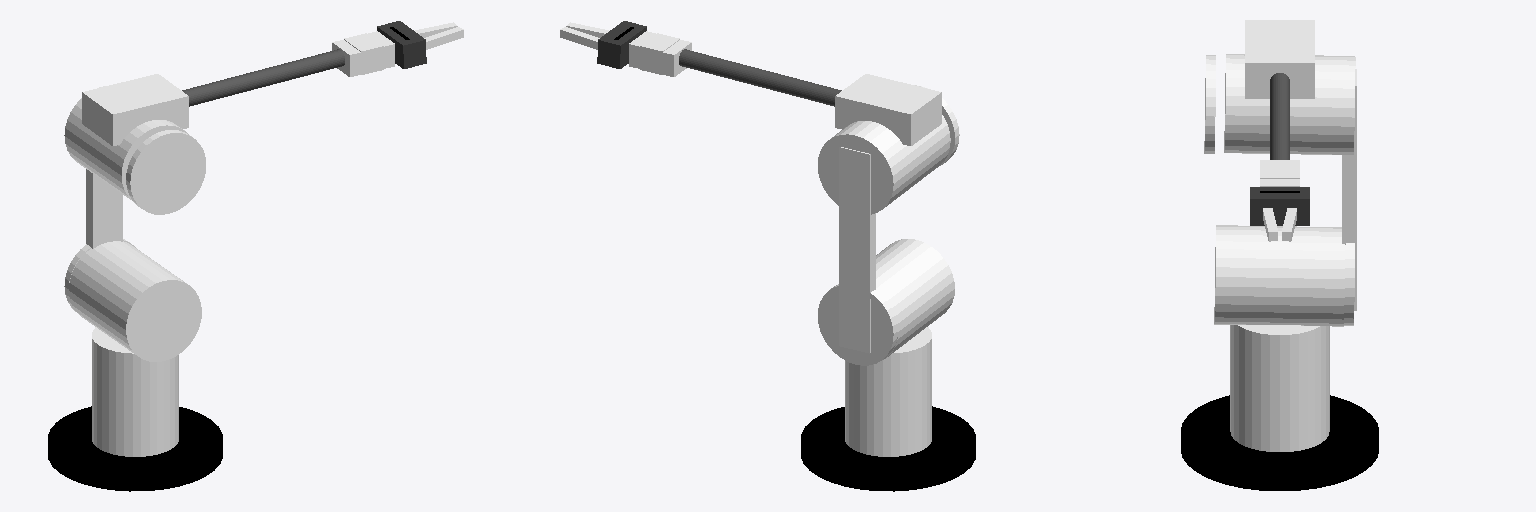
URDF robot description (CPRMover6):
<?xml version="1.0"?>
<robot name="CPRMover6">
  
  <link name="base_link">
    <visual>
      <geometry>
        <cylinder length="0.02" radius="0.1"/>
      </geometry>
	<origin rpy="0 0 0" xyz="0 0 0.01"/>
      <material name="black">
        <color rgba="0 0 0 0.9"/>
      </material>
    </visual>
  </link>
  <link name="A1fixed">
    <visual>
      <geometry>
        <cylinder length="0.13" radius="0.05"/>
      </geometry>
	<origin rpy="0 0 0" xyz="0 0 0.065"/>
      <material name="white">
        <color rgba="1 1 1 0.9"/>
      </material>
    </visual>
  </link>
 <joint name="basetoA1fixed" type="fixed">
    <parent link="base_link"/>
    <child link="A1fixed"/>
    <origin xyz="0 0 .02"/>
  </joint>


 <link name="Body1">
    <visual>
      <geometry>
	<cylinder length="0.13" radius="0.05"/>
      </geometry>
      <origin rpy="1.552 0 0" xyz="0 0 0"/>
      <material name="white">
        <color rgba="1 1 1 0.9"/>
      </material>
    </visual>
  </link>

<link name="Body2">
    <visual>
      <geometry>
	<cylinder length="0.01" radius="0.05"/>
      </geometry>
      <origin rpy="1.552 0 0" xyz="0 0.07 0"/>
      <material name="white">
        <color rgba="1 1 1 0.9"/>
      </material>
    </visual>
  </link>
<link name="UpperArm">
    <visual>
      <geometry>
	<box size="0.04 0.015 .25"/>
      </geometry>
      <origin rpy="0 0 0" xyz="0.0 0.07 0.095"/>
      <material name="white">
        <color rgba="1 1 1 0.9"/>
      </material>
    </visual>
  </link>
<link name="Body2Oben">
    <visual>
      <geometry>
	<cylinder length="0.13" radius="0.05"/>
      </geometry>
      <origin rpy="1.552 0 0" xyz="0 0.01 0.19"/>
      <material name="white">
        <color rgba="1 1 1 0.9"/>
      </material>
    </visual>
  </link>

  <joint name="A2basetoA2fixed" type="fixed">
    <parent link="Body2"/>
    <child link="UpperArm"/>
    <origin xyz="0 0 0"/>
  </joint>
  <joint name="A2ArmtoA2Oben" type="fixed">
    <parent link="Body2"/>
    <child link="Body2Oben"/>
    <origin xyz="0 0 0"/>
  </joint>




<link name="Body3">
    <visual>
      <geometry>
	<cylinder length="0.01" radius="0.05"/>
      </geometry>
      <origin rpy="1.552 0 0" xyz="0 -0.07 0"/>
      <material name="white">
        <color rgba="1 1 1 0.9"/>
      </material>
    </visual>
  </link>

 
<link name="Body4">
    <visual>
      <geometry>
	<cylinder length="0.3" radius="0.01"/>
      </geometry>
      <origin rpy="0 1.552 0" xyz="0.12 0 0"/>
      <material name="grey">
        <color rgba="0.4 0.4 0.4 0.9"/>
      </material>
    </visual>
  </link>
<link name="Body4Back">
    <visual>
      <geometry>
	<box size="0.1 0.07 0.04"/>
      </geometry>
      <origin rpy="0 0 0" xyz="0 0 0"/>
      <material name="white">
        <color rgba="1 1 1 0.9"/>
      </material>
    </visual>
  </link>
<link name="Body4Front">
    <visual>
      <geometry>
	<box size="0.06 0.04 0.028"/>
      </geometry>
      <origin rpy="0 0 0" xyz="0.3 0 0"/>
      <material name="white">
        <color rgba="1 1 1 0.9"/>
      </material>
    </visual>
  </link>
<joint name="A4basetoA4Backfixed" type="fixed">
    <parent link="Body4"/>
    <child link="Body4Back"/>
    <origin xyz="0 0 0"/>
  </joint>
  <joint name="A4basetoA4fixed" type="fixed">
    <parent link="Body4"/>
    <child link="Body4Front"/>
    <origin xyz="0 0 0"/>
  </joint>

<link name="Body5">
    <visual>
      <geometry>
	<box size="0.03 0.04 0.03"/>
      </geometry>
      <origin rpy="0 0 0" xyz="0.0 0 0"/>
      <material name="white">
        <color rgba="1 1 1 0.9"/>
      </material>
    </visual>
  </link>
<link name="Body6">
    <visual>
      <geometry>
	<box size="0.01 0.04 0.03"/>
      </geometry>
      <origin rpy="0 0 0" xyz="0 0 0"/>
      <material name="black">
        <color rgba="0 0 0 0.9"/>
      </material>
    </visual>
  </link>


<link name="GripperBody">
    <visual>
      <geometry>
	<box size="0.03 0.06 .03"/>
      </geometry>
      <origin rpy="0 0 0" xyz="0.0 0.0 0.0"/>
      <material name="gray">
        <color rgba="0.3 0.3 0.3 0.9"/>
      </material>
    </visual>
  </link>
<link name="GripperFinger1">
    <visual>
      <geometry>
	<box size="0.01 0.01 .07"/>
      </geometry>
      <origin rpy="0.1 0 0" xyz="0.0 0.00 0.04"/>
      <material name="gray">
        <color rgba="1 1 1 0.9"/>
      </material>
    </visual>
  </link>
<link name="GripperFinger2">
    <visual>
      <geometry>
	<box size="0.01 0.01 .07"/>
      </geometry>
      <origin rpy="-0.1 0 0" xyz="0.00 0.00 0.04"/>
      <material name="gray">
        <color rgba="1 1 1 0.9"/>
      </material>
    </visual>
  </link>
<joint name="Gripper1" type="fixed">
    <parent link="Body6"/>
    <child link="GripperBody"/>
    <origin rpy="0 1.552 0" xyz="0 0 0.0"/>
  </joint>
<joint name="Gripper2" type="fixed">
    <parent link="GripperBody"/>
    <child link="GripperFinger1"/>
    <origin xyz="0 0.01 0"/>
  </joint>
<joint name="Gripper3" type="fixed">
    <parent link="GripperBody"/>
    <child link="GripperFinger2"/>
    <origin xyz="0 -0.01 0"/>
  </joint>



<joint name="Joint0" type="continuous">
    <axis xyz="0 0 1"/>
    <parent link="base_link"/>
    <child link="Body1"/>
    <origin rpy="0 0 0" xyz="0 0 0.1925"/>
    <limit effort="100" velocity="100"/>
    <joint_properties damping="0.0" friction="0.0"/>
  </joint>
<joint name="Joint1" type="continuous">
    <axis xyz="0 1 0"/>
    <parent link="Body1"/>
    <child link="Body2"/>
    <origin rpy="0 0 0" xyz="0 0 0"/>
    <limit effort="100" velocity="100"/>
    <joint_properties damping="0.0" friction="0.0"/>
  </joint>

<joint name="Joint2" type="continuous">
    <axis xyz="0 1 0"/>
    <parent link="Body2"/>
    <child link="Body3"/>
    <origin rpy="0 0 0" xyz="0 0 0.19"/>
    <limit effort="100" velocity="100"/>
    <joint_properties damping="0.0" friction="0.0"/>
  </joint>
 <joint name="Joint3" type="continuous">
    <axis xyz="1 0 0"/>
    <parent link="Body3"/>
    <child link="Body4"/>
    <origin rpy="0 0 0" xyz="0 0 0.05"/>
    <limit effort="100" velocity="100"/>
    <joint_properties damping="0.0" friction="0.0"/>
  </joint>
<joint name="Joint4" type="continuous">
    <axis xyz="0 1 0"/>
    <parent link="Body4"/>
    <child link="Body5"/>
    <origin rpy="0 0 0" xyz="0.3 0 0"/>
    <limit effort="100" velocity="100"/>
    <joint_properties damping="0.0" friction="0.0"/>
  </joint>
<joint name="Joint5" type="continuous">
    <axis xyz="1 0 0"/>
    <parent link="Body5"/>
    <child link="Body6"/>
    <origin rpy="0 0 0" xyz="0.05 0 0"/>
    <limit effort="100" velocity="100"/>
    <joint_properties damping="0.0" friction="0.0"/>
  </joint>

 
  

  

</robot>

--- Render facts (derived) ---
Views: 3 orthographic renders of the robot side by side, from view 1: azimuth 30°, elevation 25°; view 2: azimuth 150°, elevation 25°; view 3: azimuth 270°, elevation 25°.
Model CPRMover6 with 15 links and 14 joints (6 continuous, 8 fixed), rooted at base_link, posed all joints at 0.
Links seen in each view (by area): view 1: Body1, A1fixed, base_link, Body3, Body4Back, Body2Oben, Body4, UpperArm, Body4Front, GripperBody, Body5; view 2: A1fixed, base_link, UpperArm, Body2Oben, Body1, Body4Back, Body2, Body4, GripperBody, Body4Front, Body5, Body3; view 3: Body1, A1fixed, base_link, Body2Oben, Body4Back, GripperBody, Body4, UpperArm, Body3, Body2, Body4Front.
Boxes of the visible links, <box> form: Body1: <box>69,241,201,361</box>; A1fixed: <box>92,327,178,456</box>; base_link: <box>48,406,222,491</box>; Body3: <box>126,130,205,214</box>; Body4Back: <box>82,74,188,145</box>; Body2Oben: <box>64,86,188,199</box>; Body4: <box>182,49,344,106</box>; UpperArm: <box>86,169,122,248</box>; Body4Front: <box>332,31,394,76</box>; GripperBody: <box>377,21,426,68</box>; Body5: <box>344,33,383,74</box>; A1fixed: <box>845,327,931,456</box>; base_link: <box>801,406,975,491</box>; UpperArm: <box>839,147,875,353</box>; Body2Oben: <box>818,115,950,214</box>; Body1: <box>876,239,954,359</box>; Body4Back: <box>835,74,941,145</box>; Body2: <box>818,284,897,365</box>; Body4: <box>679,49,841,106</box>; GripperBody: <box>597,21,646,68</box>; Body4Front: <box>629,31,691,76</box>; Body5: <box>640,33,679,74</box>; Body3: <box>915,85,959,165</box>; Body1: <box>1214,225,1344,326</box>; A1fixed: <box>1230,325,1329,451</box>; base_link: <box>1181,395,1378,490</box>; Body2Oben: <box>1224,54,1355,154</box>; Body4Back: <box>1245,20,1314,98</box>; GripperBody: <box>1250,187,1309,225</box>; Body4: <box>1270,73,1289,159</box>; UpperArm: <box>1342,69,1356,310</box>; Body3: <box>1204,55,1215,153</box>; Body2: <box>1344,243,1354,325</box>; Body4Front: <box>1260,160,1299,186</box>.
Size in the robot's own frame: 0.5254 by 0.2 by 0.4525 metres.
Geometry: primitives only (box / cylinder / sphere), no mesh files.